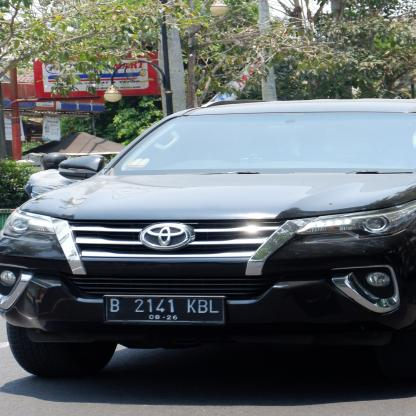Plat-Nomor: (101, 292, 230, 329)
